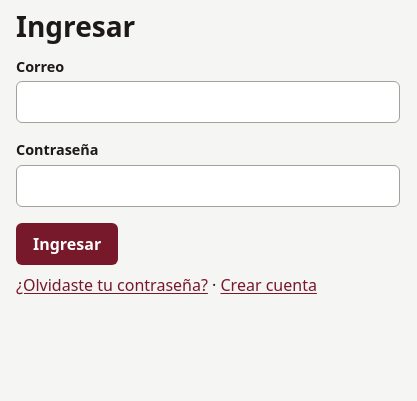
Test: Ingreso › valida antes de enviar
The width and height of the screenshot is (417, 401).
Click the button "Ingresar" at {"x": 67, "y": 244}, box [16, 223, 118, 265]
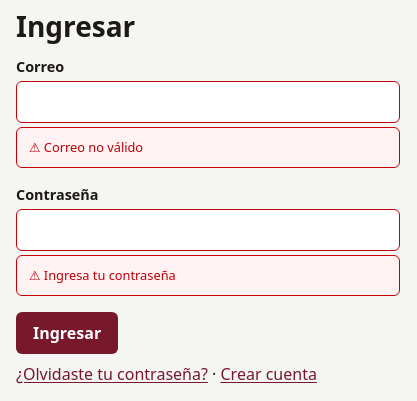
expect the message "Correo no válido" is shown: met, box [16, 127, 400, 168]
